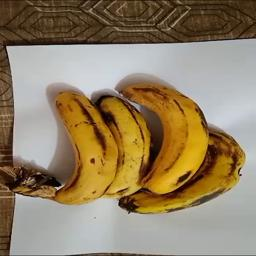Banana Semifresh: (14, 90, 118, 205), (121, 83, 209, 196), (91, 91, 150, 203)
